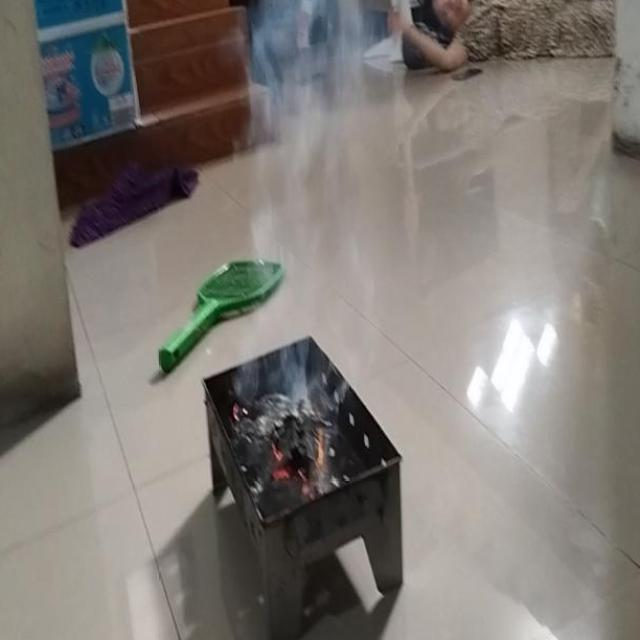fire: (233, 0, 370, 404)
